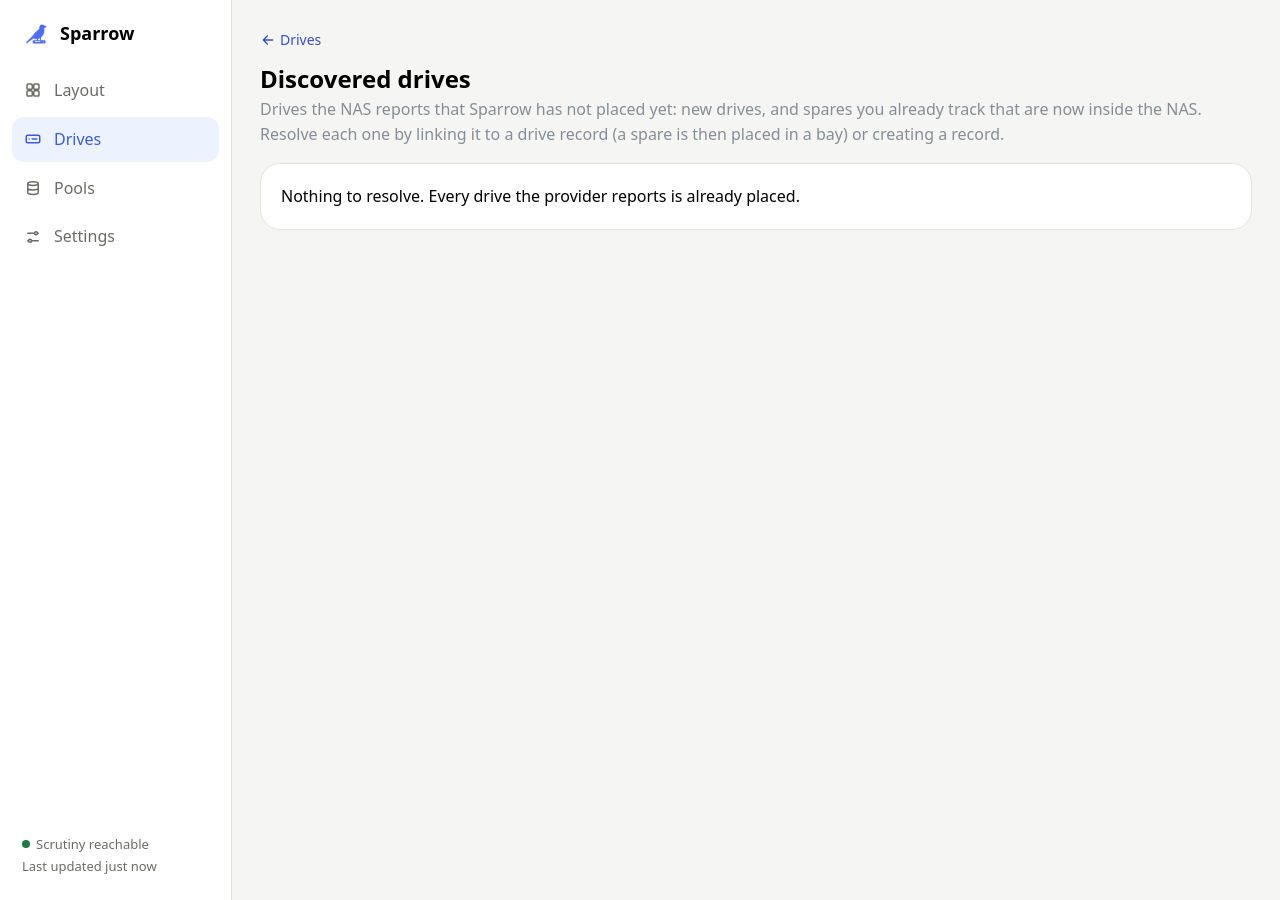
Test case: Discovered button on the Drives page (R71) › R71: the old /inbox address redirects to /drives/discovered and the back link returns to Drives
Check: the heading "Discovered drives" is shown, box [260,62,471,95]
What coordinates should you click on to do the following:
click the link with class "back-link"
I would click on:
 (291, 40)
Its box is [260,30,321,49].
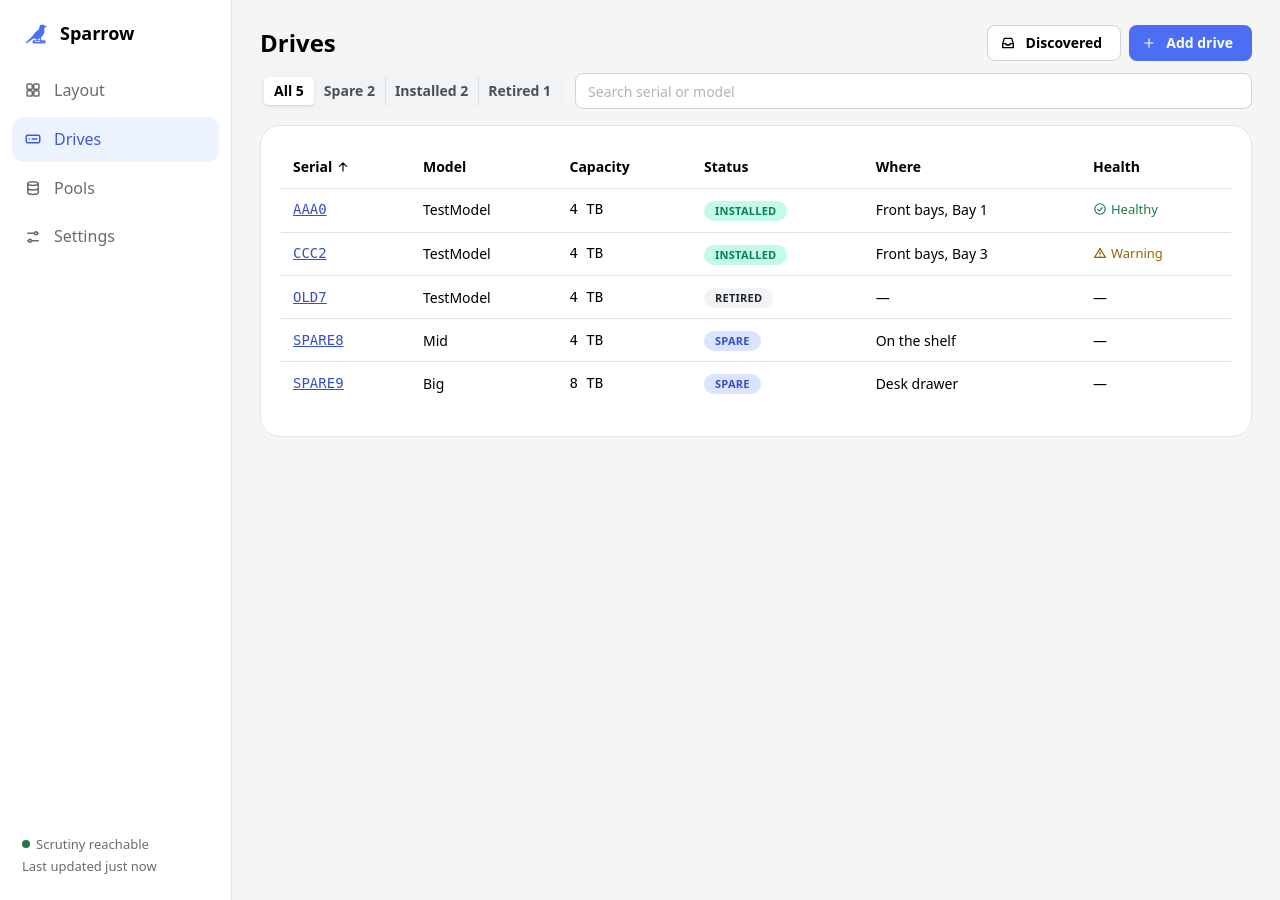
Check: the button "Add drive" is shown, box [1129,25,1252,61]
